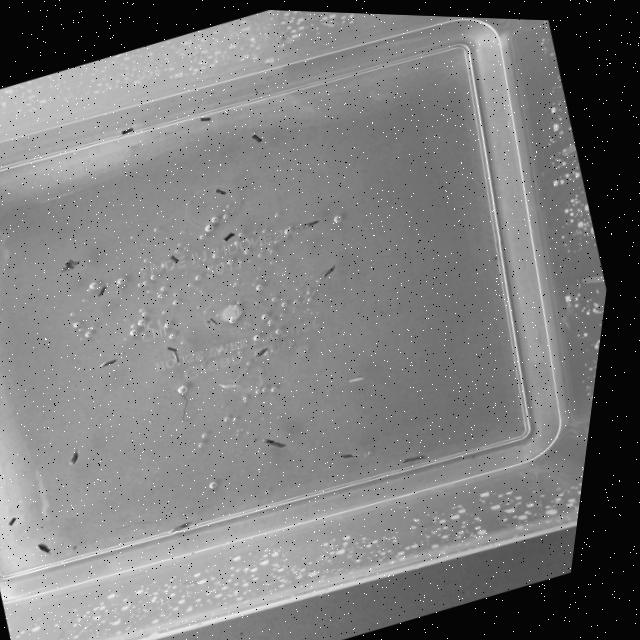Wereng: (240, 421, 297, 463), (200, 174, 250, 211), (286, 205, 330, 242), (76, 276, 122, 308), (181, 104, 229, 134), (105, 114, 148, 145), (197, 301, 240, 332), (154, 243, 195, 273), (212, 220, 246, 256), (388, 444, 433, 471), (243, 117, 278, 150), (158, 336, 193, 369), (331, 443, 373, 469), (53, 247, 88, 278), (163, 512, 204, 538), (245, 341, 282, 369), (31, 533, 60, 561), (94, 349, 125, 374), (341, 363, 372, 388), (1, 507, 28, 535), (60, 443, 86, 467), (318, 263, 341, 284)
